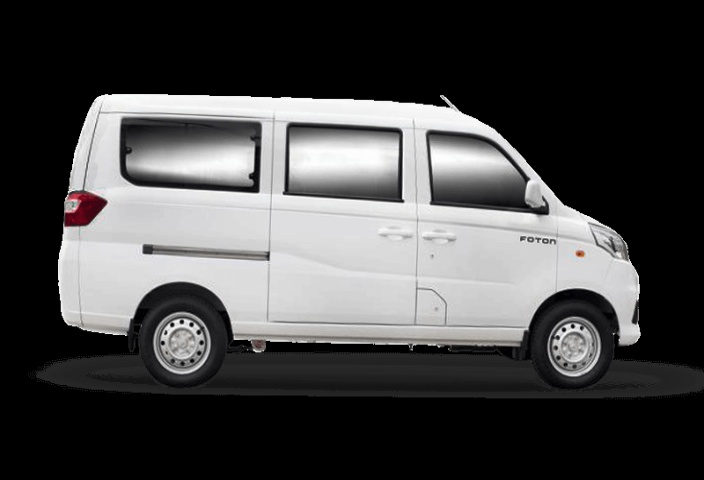van: (62, 74, 673, 414)
